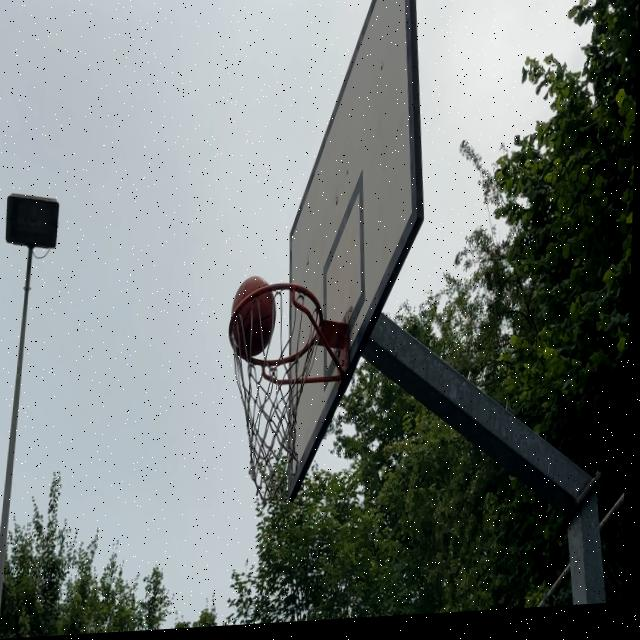rebound_hit: (230, 275, 277, 365)
